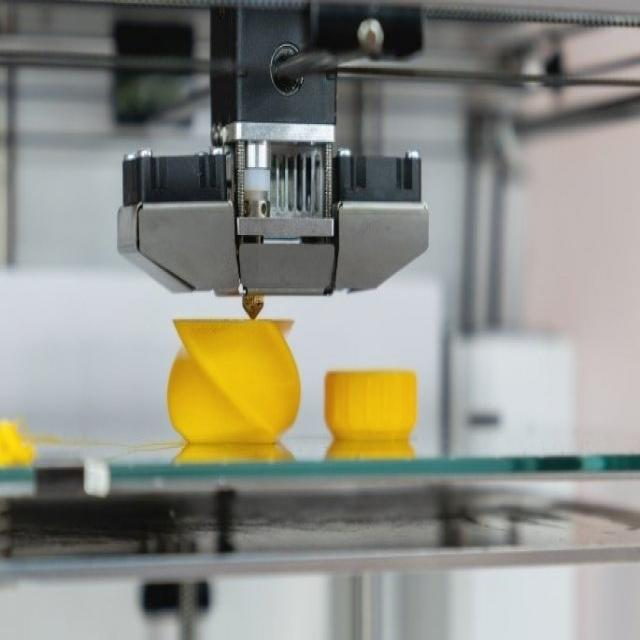Without deffect: (129, 285, 426, 477)
